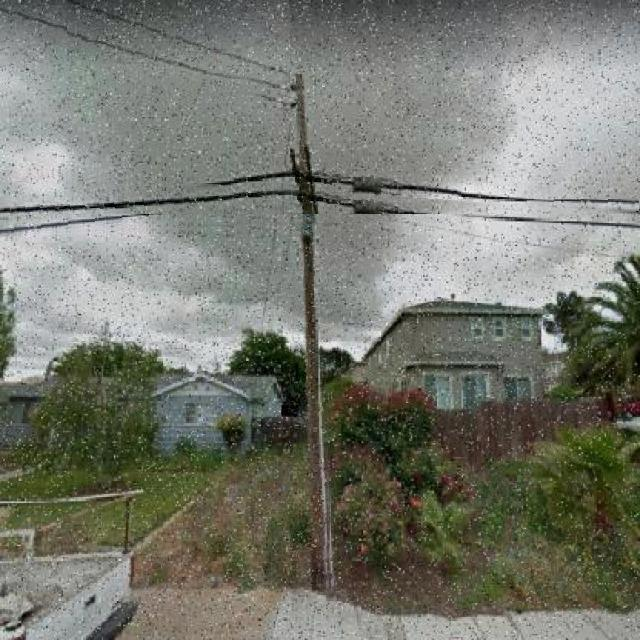pole: (291, 73, 331, 595)
wire: (0, 6, 290, 96), (67, 0, 289, 78), (2, 186, 460, 214), (0, 199, 281, 235), (390, 199, 639, 210)
